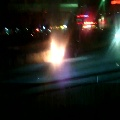fire: (45, 40, 64, 64)
